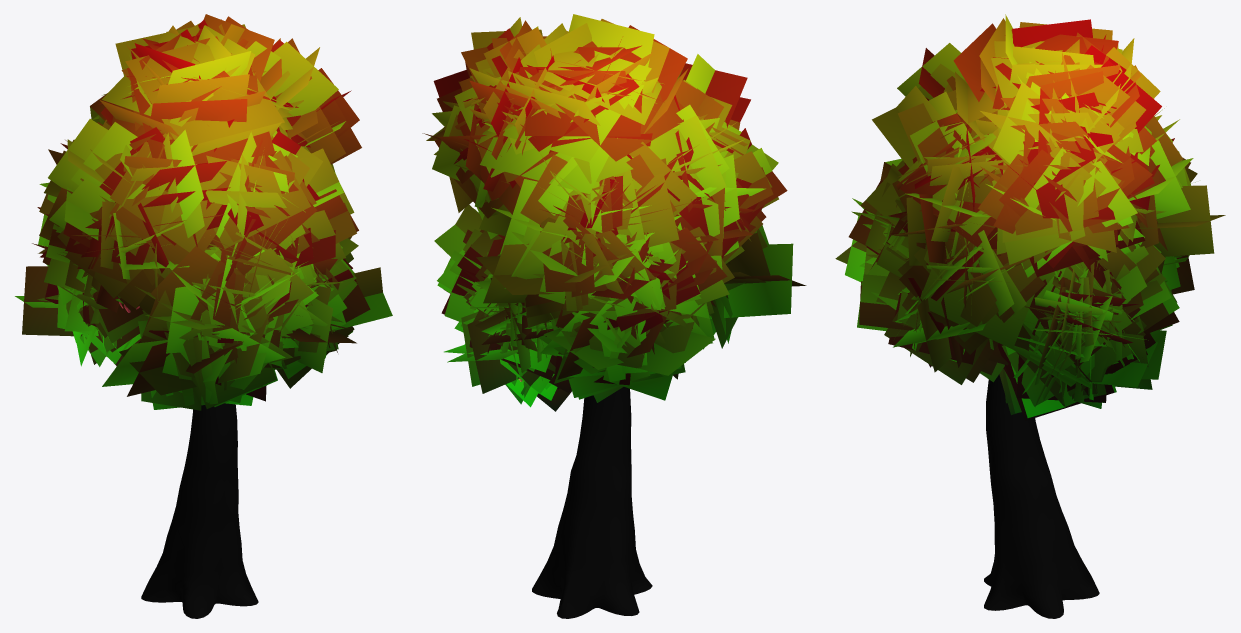
The model's file is env_tree_bg_qt_common_1.fbx.
The picture shows the model from 3 angles, left to right: view 1: azimuth 30°, elevation 25°; view 2: azimuth 150°, elevation 25°; view 3: azimuth 270°, elevation 25°; orthographic projection. The views are drawn at different scales.
Parts seen in each view (by area): view 1: env_tree_bg_qt_common_1; view 2: env_tree_bg_qt_common_1; view 3: env_tree_bg_qt_common_1.
Part boxes in pixels (<box>): env_tree_bg_qt_common_1: <box>15,14,392,618</box>; env_tree_bg_qt_common_1: <box>422,14,806,618</box>; env_tree_bg_qt_common_1: <box>835,14,1225,618</box>.
Bounding box in the file's own units: 4.31 × 7.26 × 4.58.
